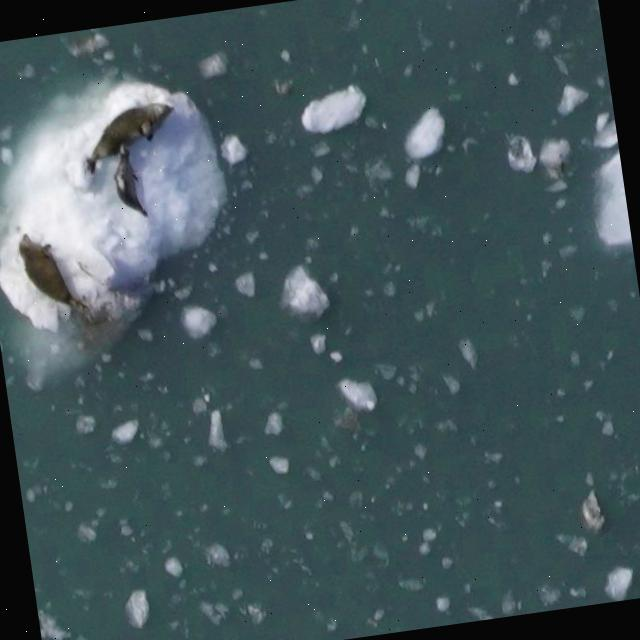seal: (71, 89, 184, 178), (7, 226, 91, 331), (104, 143, 149, 226)
